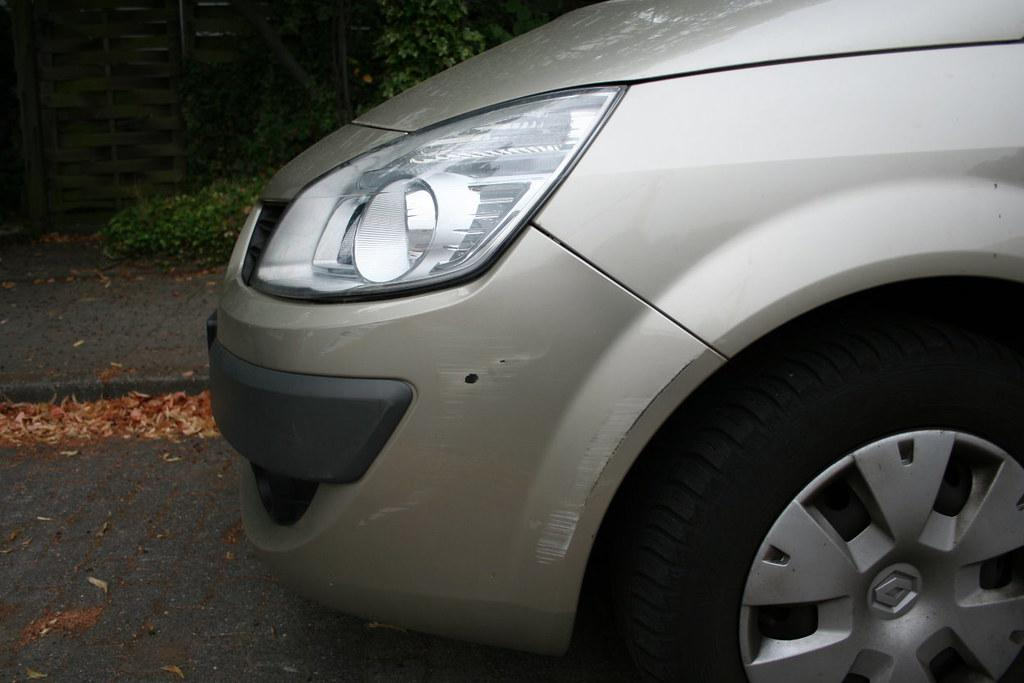front-bumper-dent: (237, 298, 598, 594)
